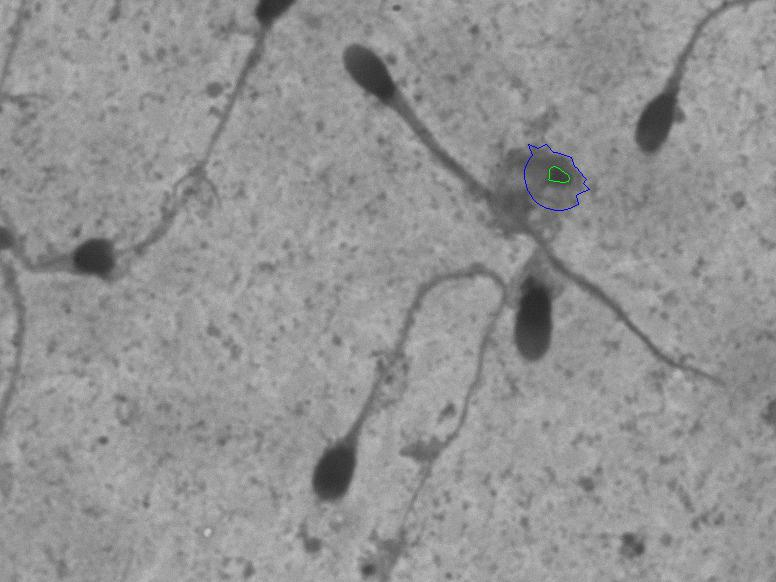Abnormal: (277, 257, 488, 530), (312, 5, 502, 212), (604, 18, 740, 154)
